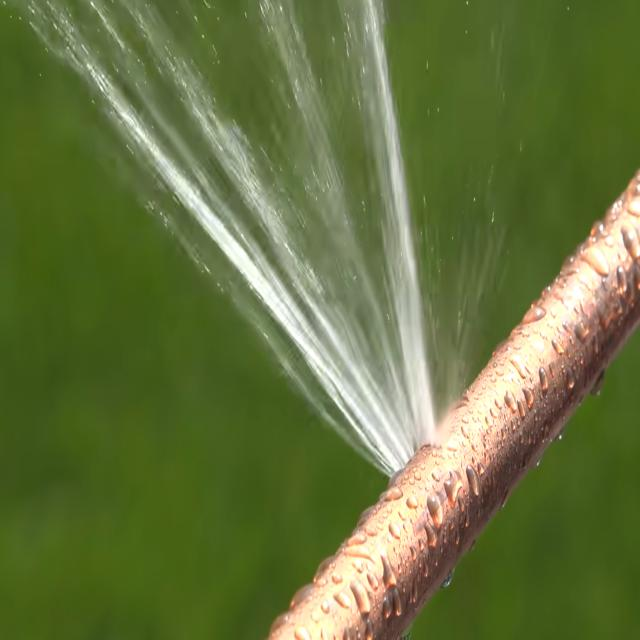leak: (0, 0, 441, 476)
